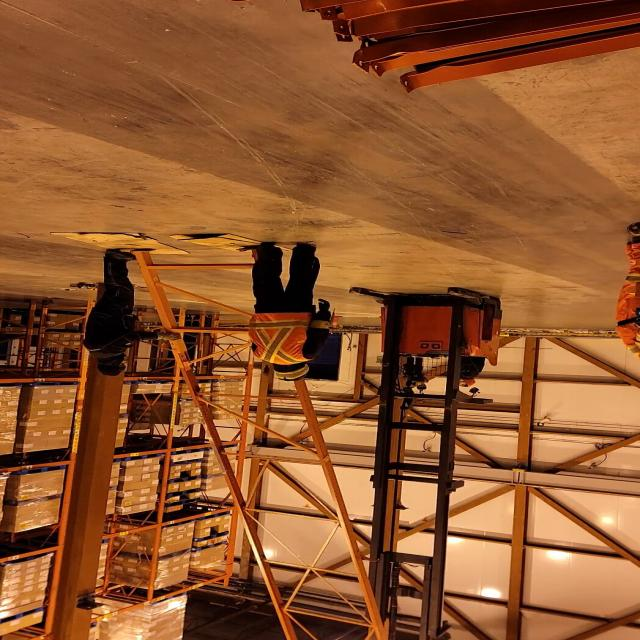forklift: (343, 285, 508, 492)
human: (80, 245, 186, 381), (244, 240, 339, 382), (607, 219, 640, 368), (438, 354, 499, 388)
objectofinterest: (118, 242, 397, 640), (42, 229, 196, 259), (168, 230, 293, 261)
